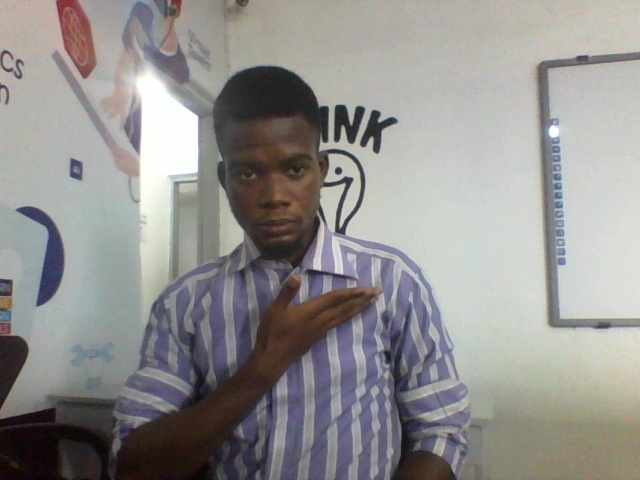you_are_welcome: (232, 273, 394, 389)
